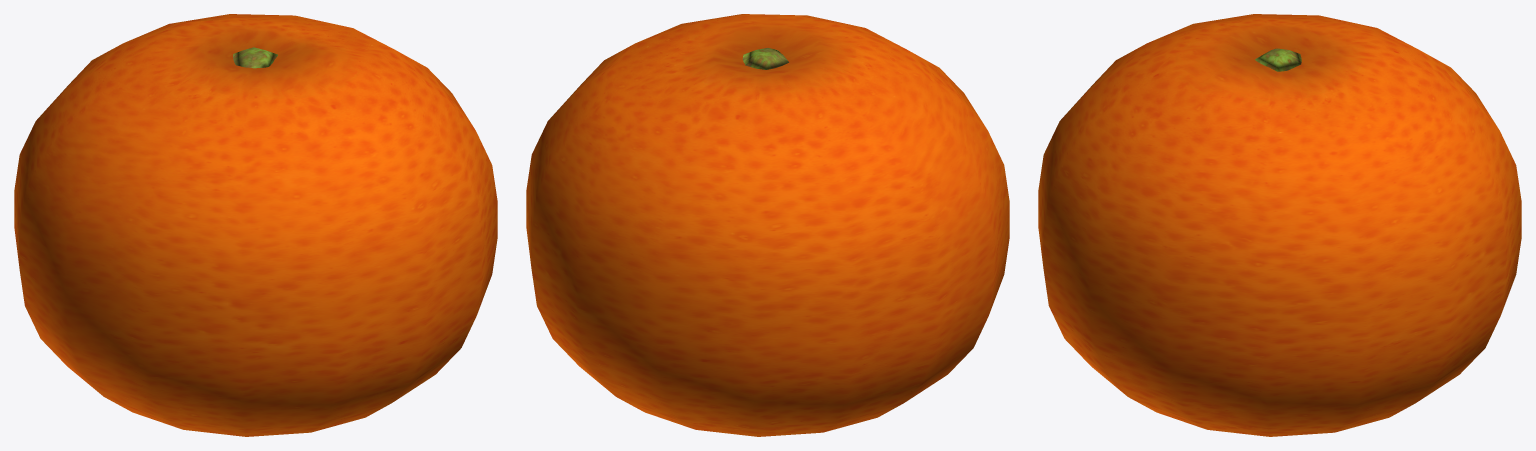
The model's file is Tangerine.fbx.
3 views of the same model, side by side, from view 1: azimuth 30°, elevation 25°; view 2: azimuth 150°, elevation 25°; view 3: azimuth 270°, elevation 25° (orthographic).
Parts seen in each view (by area): view 1: Default_Layer; view 2: Default_Layer; view 3: Default_Layer.
Part boxes in pixels (box(x1,y1,x2,y2)): Default_Layer: box(14, 14, 497, 436); Default_Layer: box(526, 14, 1009, 436); Default_Layer: box(1038, 14, 1521, 436).
Bounding box in the file's own units: 19.59 × 15.87 × 19.59.
